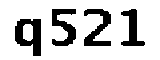1: (117, 7, 147, 51)
2: (79, 5, 112, 53)
5: (49, 4, 76, 52)
q: (12, 16, 44, 60)
